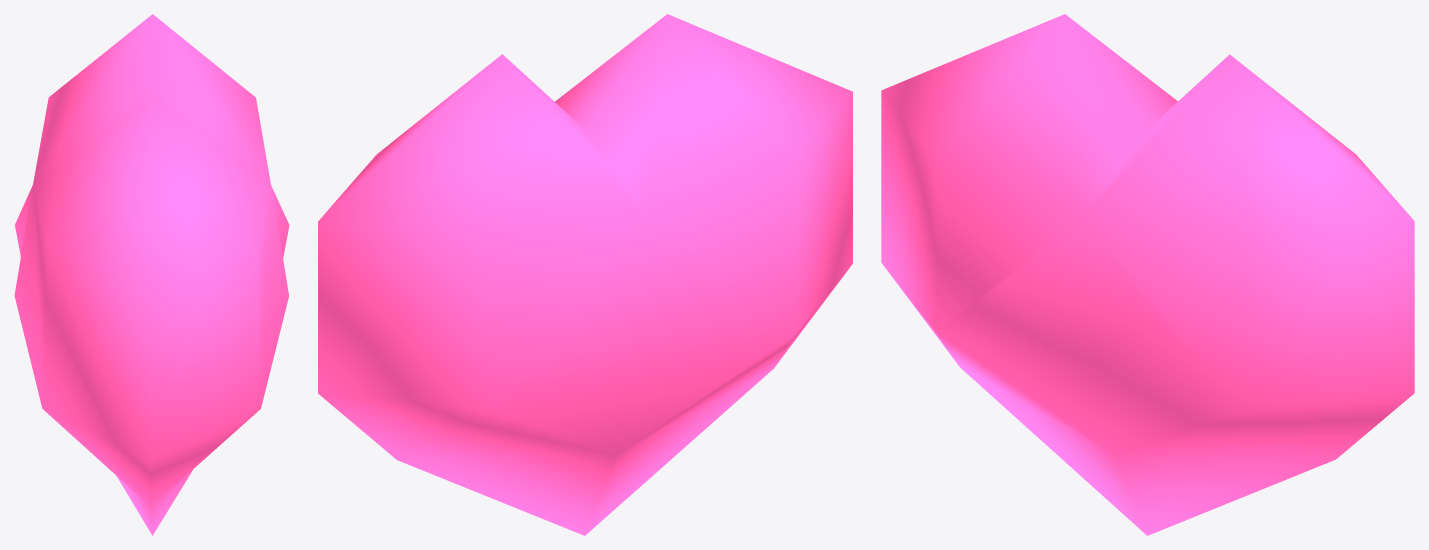
File: heart.fbx
3 renders of one model, left to right at view 1: azimuth 30°, elevation 25°; view 2: azimuth 150°, elevation 25°; view 3: azimuth 270°, elevation 25°, orthographic. The views are drawn at different scales.
Parts seen in each view (by area): view 1: Cube; view 2: Cube; view 3: Cube.
Boxes of the visible parts, x1=… form: Cube: x1=14, y1=14, x2=289, y2=535; Cube: x1=318, y1=14, x2=852, y2=535; Cube: x1=881, y1=14, x2=1414, y2=535.
Size of the model in its own units: 52.05 by 76.69 by 73.86.
